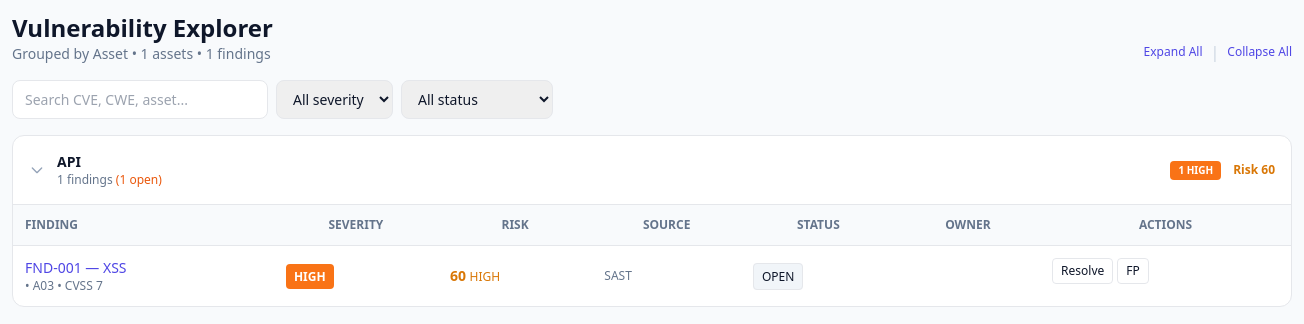
Test: Findings › toggle group by clicking asset header
Expected: the link "FND-001 — XSS" is shown, [25,258,126,277]
Click the text "API" at (69, 162), box [57,152,81,171]
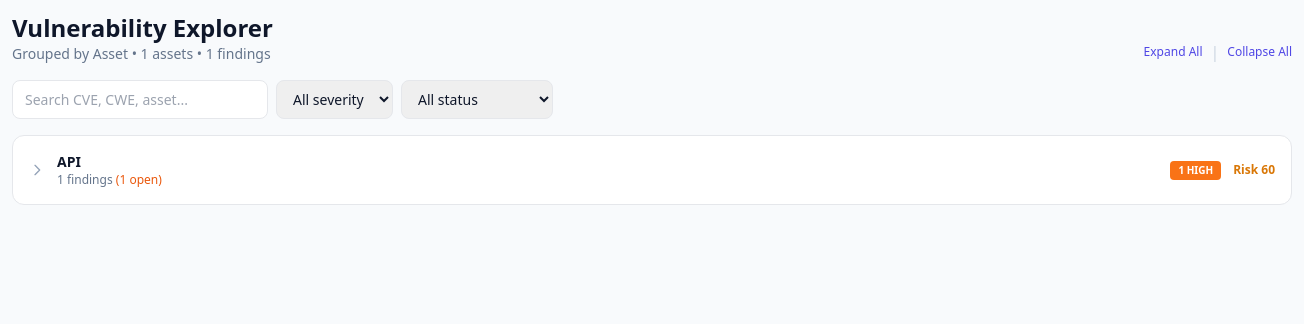
Now the link "FND-001 — XSS" is gone
Click the text "API" at (69, 162), box [57,152,81,171]
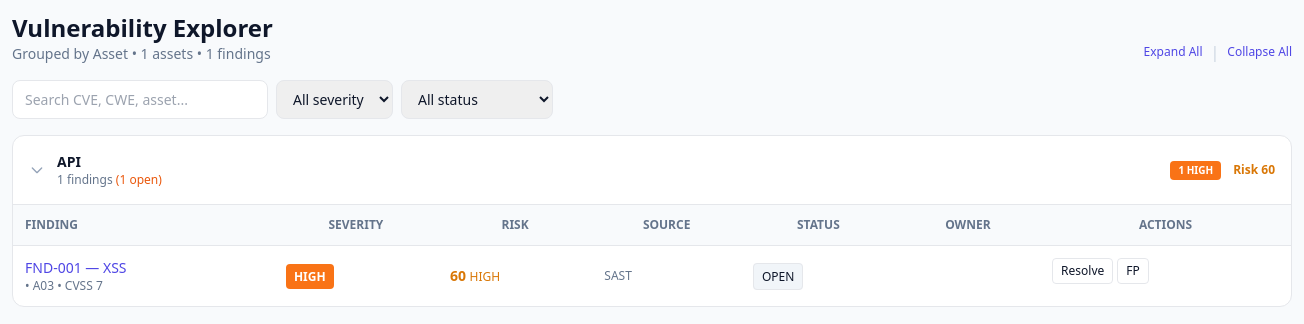
Now the link "FND-001 — XSS" is shown, box [25,258,126,277]
